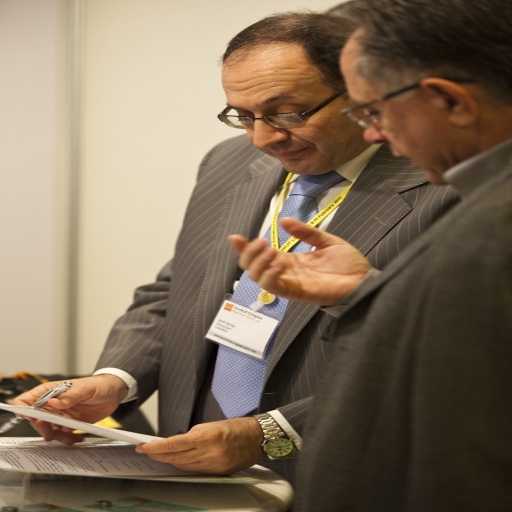hand: (224, 215, 373, 307), (7, 374, 121, 446), (121, 419, 272, 473)
